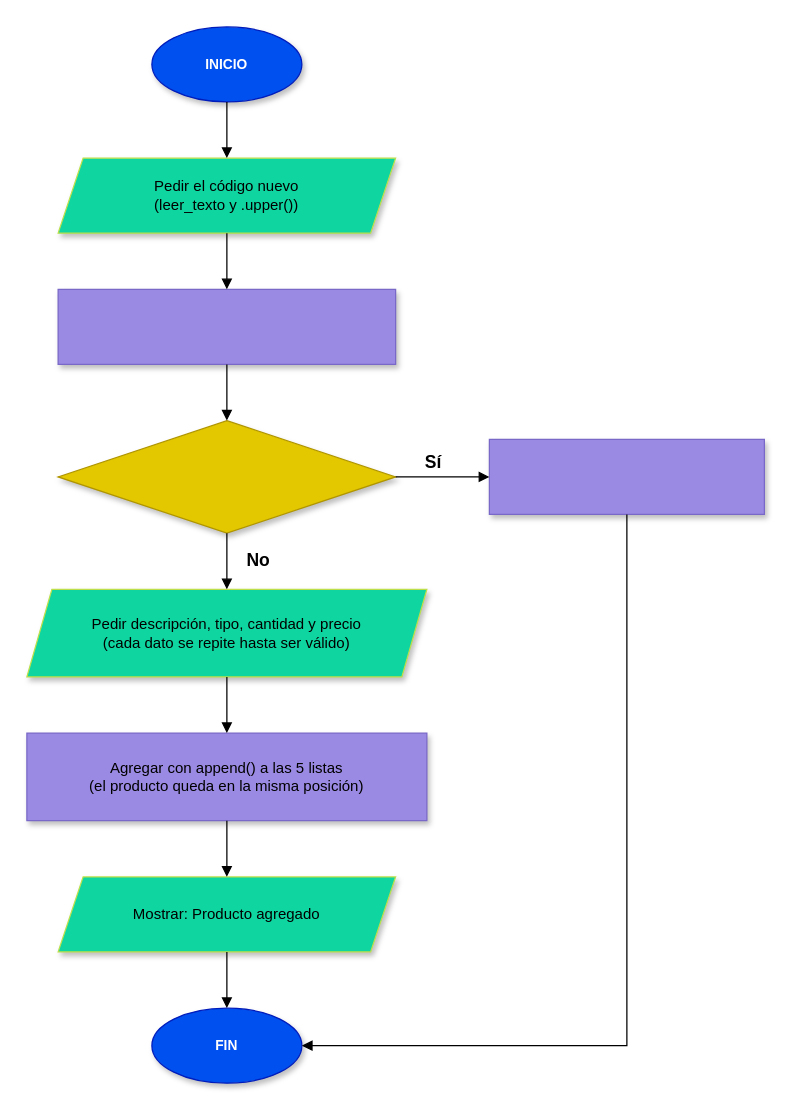
Image size: 794x1114. Some labels were removed from this diagram. Each missing label, with the centre of its shape:
"Buscar con buscar_posicion" belongs at (x=227, y=328).
"Mostrar: Error, ya existe un producto con ese código" belongs at (x=627, y=478).
"¿El código ya existe? (posición ≠ -1)" belongs at (x=227, y=478).
